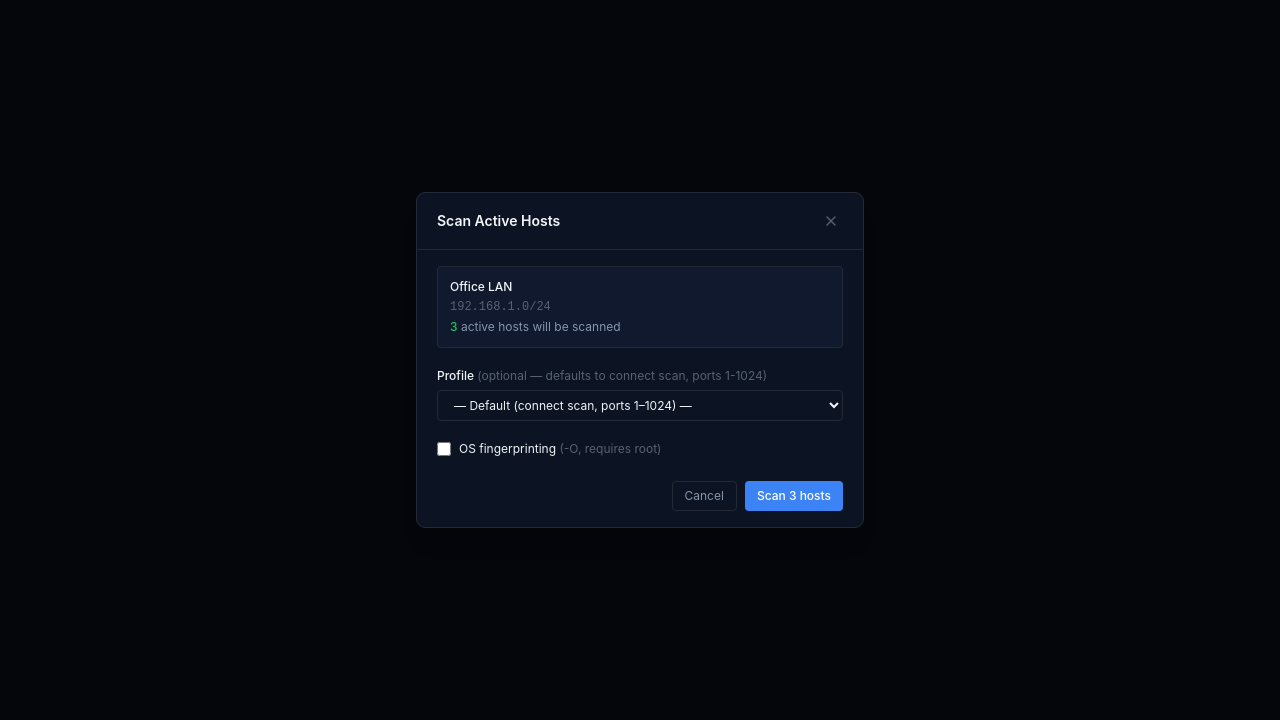
Test: ScanNetworkModal › shows a fallback error message when a non-Error is thrown
What coordinates should you click on to do the following:
click the button "Scan 3 hosts"
I would click on:
 (794, 496)
Its box is x1=745 y1=481 x2=843 y2=511.
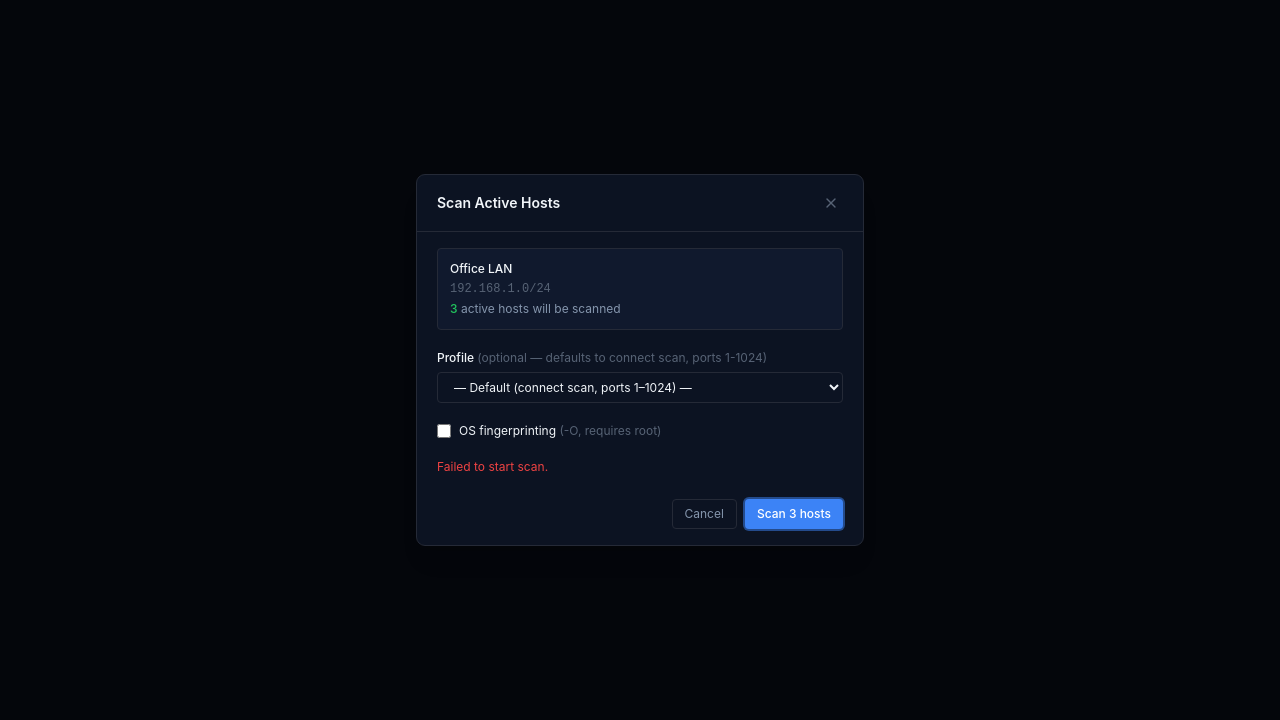
Expected: the message reads "Failed to start scan.", x1=437 y1=459 x2=548 y2=474
